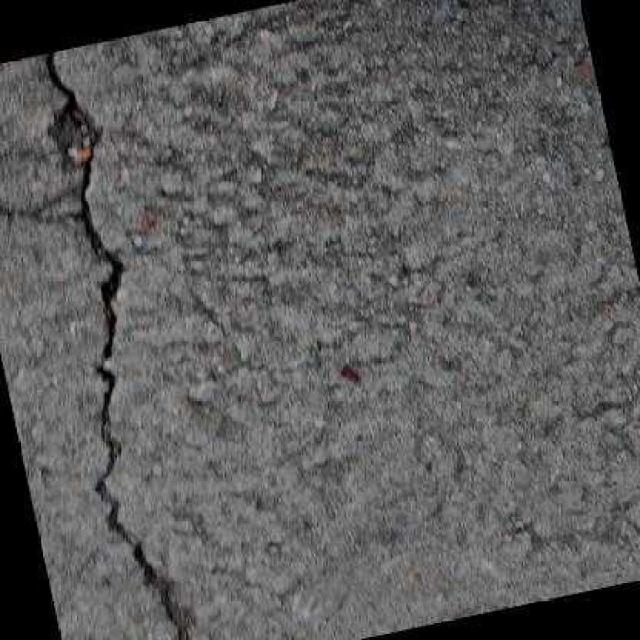D00: (44, 51, 188, 640)
